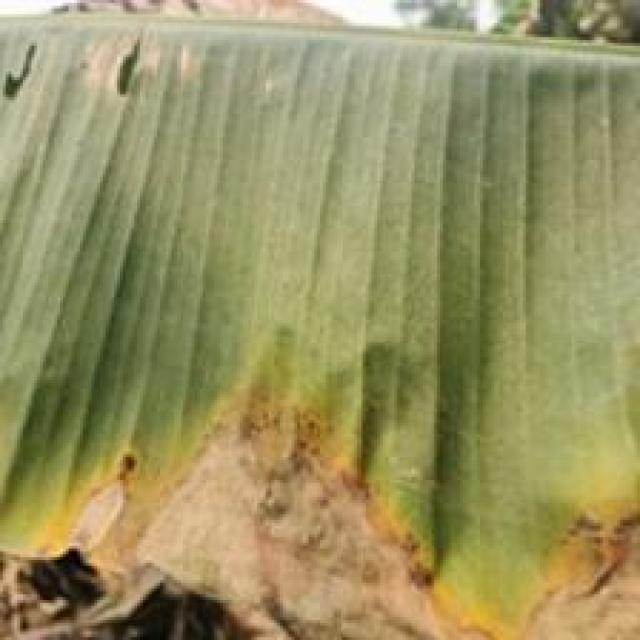Downey_mildrew: (4, 299, 640, 639), (7, 15, 173, 138)
